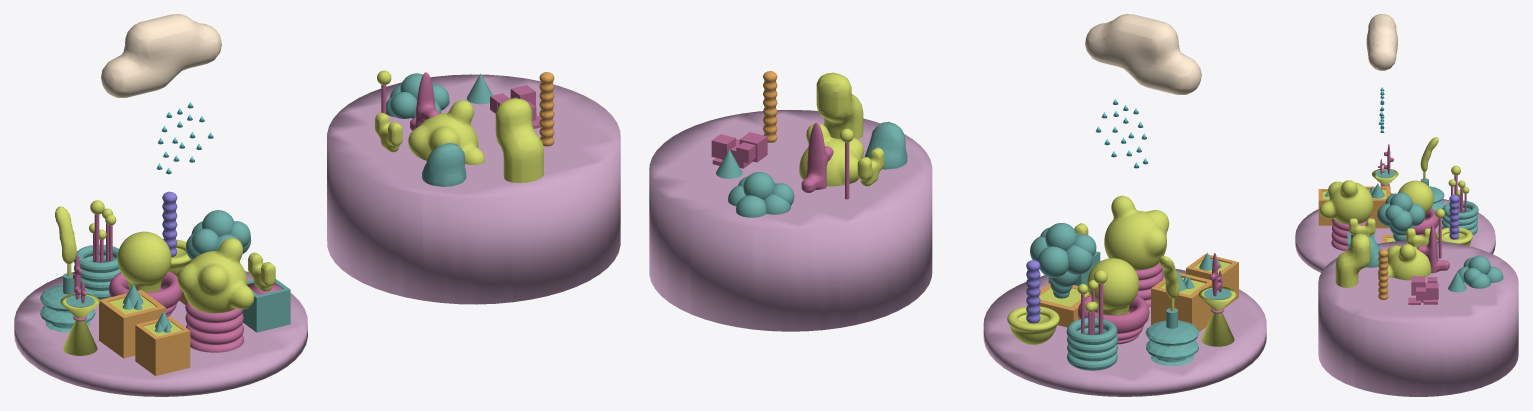
Rendered from plantroom.glb.
3 views of the same model, side by side, from view 1: azimuth 30°, elevation 25°; view 2: azimuth 150°, elevation 25°; view 3: azimuth 270°, elevation 25° (orthographic). The views are drawn at different scales.
Visible parts, largest first — view 1: 平面.002, 平面.001, 融球.015, 融球.005, 融球.004, 融球.010, 融球.002, 立方体.010, 立方体, Torus.003, 球体, 立方体.004 (+13 smaller); view 2: 平面.002, 平面.001, 融球.015, 融球.005, 球体, 融球.004, Torus.006, 球体.007, 融球.011, 融球.002, 立方体, 融球.010 (+13 smaller); view 3: 平面.002, 平面.001, 融球.005, 融球.015, 球体, 融球.004, 融球.010, 球体.007, 立方体.007, Torus.006, 融球.002, 融球.007 (+13 smaller).
Boxes of the visible parts, x1,y1,x2,y2 form: 平面.002: (327,74,620,304); 平面.001: (14,271,307,396); 融球.015: (101,14,221,97); 融球.005: (177,238,254,313); 融球.004: (495,98,543,182); 融球.010: (408,100,484,164); 融球.002: (117,231,171,292); 立方体.010: (135,316,190,375); 立方体: (99,290,165,358); Torus.003: (185,301,244,352); 球体: (186,210,251,259); 立方体.004: (242,279,290,332); 平面.002: (649,110,932,331); 平面.001: (983,269,1266,396); 融球.015: (1085,14,1201,94); 融球.005: (1104,195,1169,270); 球体: (1030,223,1096,298); 融球.004: (816,72,863,139); Torus.006: (1066,317,1117,370); 球体.007: (728,172,794,217); 融球.011: (1145,320,1199,365); 融球.002: (1087,258,1139,315); 立方体: (1151,272,1212,331); 融球.010: (799,123,864,186); 平面.002: (1318,240,1518,396); 平面.001: (1295,193,1495,272); 融球.005: (1319,180,1373,224); 融球.015: (1366,14,1397,70); 球体: (1377,192,1425,241); 融球.004: (1335,233,1370,287); 融球.010: (1378,244,1431,280); 球体.007: (1457,255,1503,288); 立方体.007: (1408,276,1438,304); Torus.006: (1442,200,1478,234); 融球.002: (1398,180,1433,220); 融球.007: (1417,225,1449,273).
Size of the model in its own units: 12.18 by 6.48 by 5.92.
